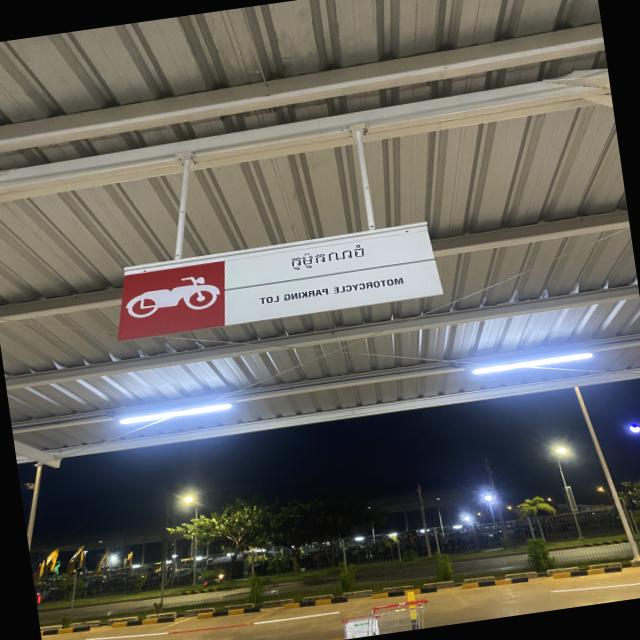Yolov11_80vkh: (280, 242, 369, 274)
